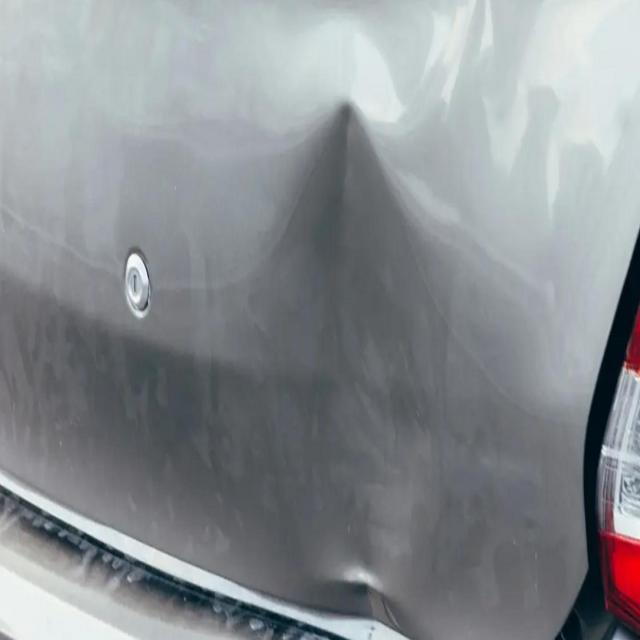dent: (266, 80, 444, 640)
